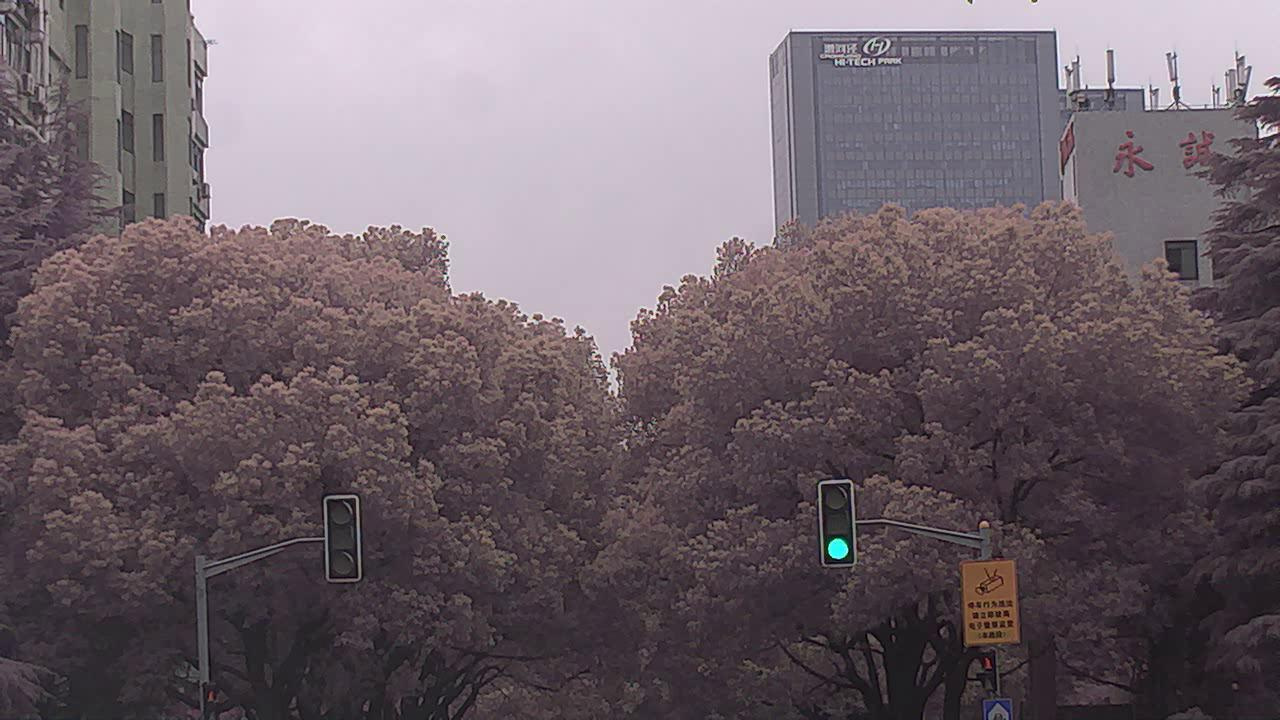traffic_light: (818, 482, 856, 566), (329, 499, 359, 581)
